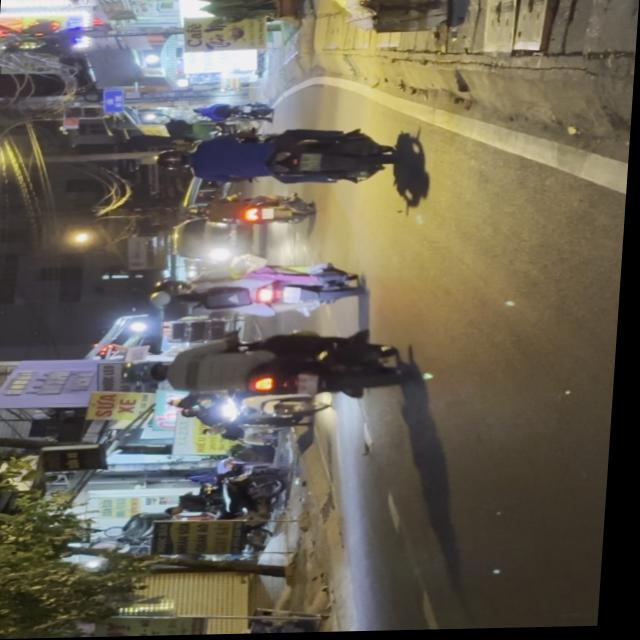helmet: (130, 363, 171, 386), (154, 292, 199, 312), (155, 151, 192, 173)
licenseplate: (127, 330, 426, 407), (152, 127, 404, 194), (146, 260, 370, 324)
nohelmet: (299, 376, 322, 398), (299, 155, 322, 174), (285, 289, 305, 306)
